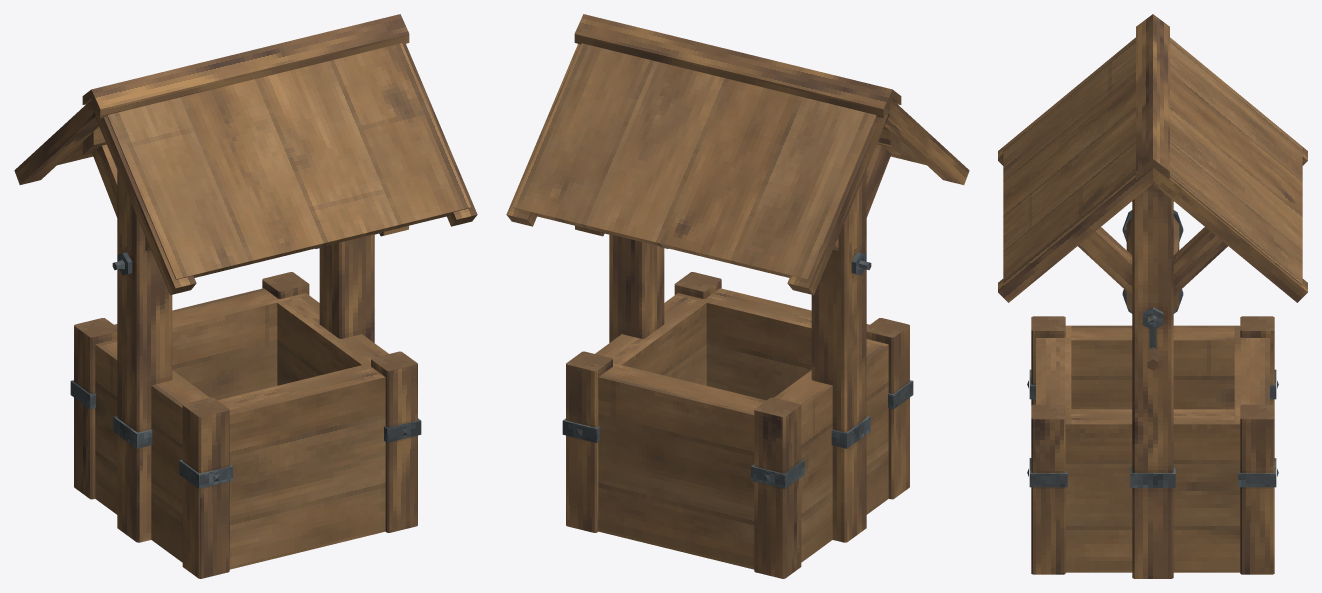
The model's file is pixel-fantasy-timber-wellhead.glb.
The picture shows the model from 3 angles, left to right: view 1: azimuth 30°, elevation 25°; view 2: azimuth 150°, elevation 25°; view 3: azimuth 270°, elevation 25°; orthographic projection. The views are drawn at different scales.
Visible parts, largest first — view 1: Curb, Continuous roof shell, RoofPosts, Square fitted ridge cap, Straight gable rafter (-1, -1_0), Straight gable rafter (1, -1_0), Straight gable rafter (-1, 1_0); view 2: Curb, Continuous roof shell, RoofPosts, Square fitted ridge cap, Straight gable rafter (1, -1_0), Straight gable rafter (-1, -1_0), Straight gable rafter (1, 1_0); view 3: Curb, Continuous roof shell, RoofPosts, Square fitted ridge cap, Straight gable rafter (1, 1_0), Straight gable rafter (-1, 1_0), DrumCrank.
Part boxes in pixels (x1,y1,x2,y2): Curb: [70, 272, 421, 578]; Continuous roof shell: [57, 43, 470, 279]; RoofPosts: [82, 127, 374, 542]; Square fitted ridge cap: [82, 14, 409, 118]; Straight gable rafter (-1, -1_0): [95, 107, 196, 295]; Straight gable rafter (1, -1_0): [14, 100, 98, 184]; Straight gable rafter (-1, 1_0): [403, 44, 477, 226]; Curb: [562, 272, 913, 578]; Continuous roof shell: [513, 43, 926, 279]; RoofPosts: [609, 127, 901, 542]; Square fitted ridge cap: [574, 14, 901, 118]; Straight gable rafter (1, -1_0): [787, 107, 888, 295]; Straight gable rafter (-1, -1_0): [885, 100, 969, 184]; Straight gable rafter (1, 1_0): [506, 44, 580, 226]; Curb: [1027, 316, 1278, 574]; Continuous roof shell: [1003, 37, 1302, 285]; RoofPosts: [1078, 184, 1227, 578]; Square fitted ridge cap: [1136, 14, 1169, 179]; Straight gable rafter (1, 1_0): [1153, 168, 1307, 302]; Straight gable rafter (-1, 1_0): [998, 168, 1152, 302]; DrumCrank: [1122, 210, 1183, 370].
Bounding box in the file's own units: 2.24 × 3.09 × 1.99.
2 materials, 2 textured.
